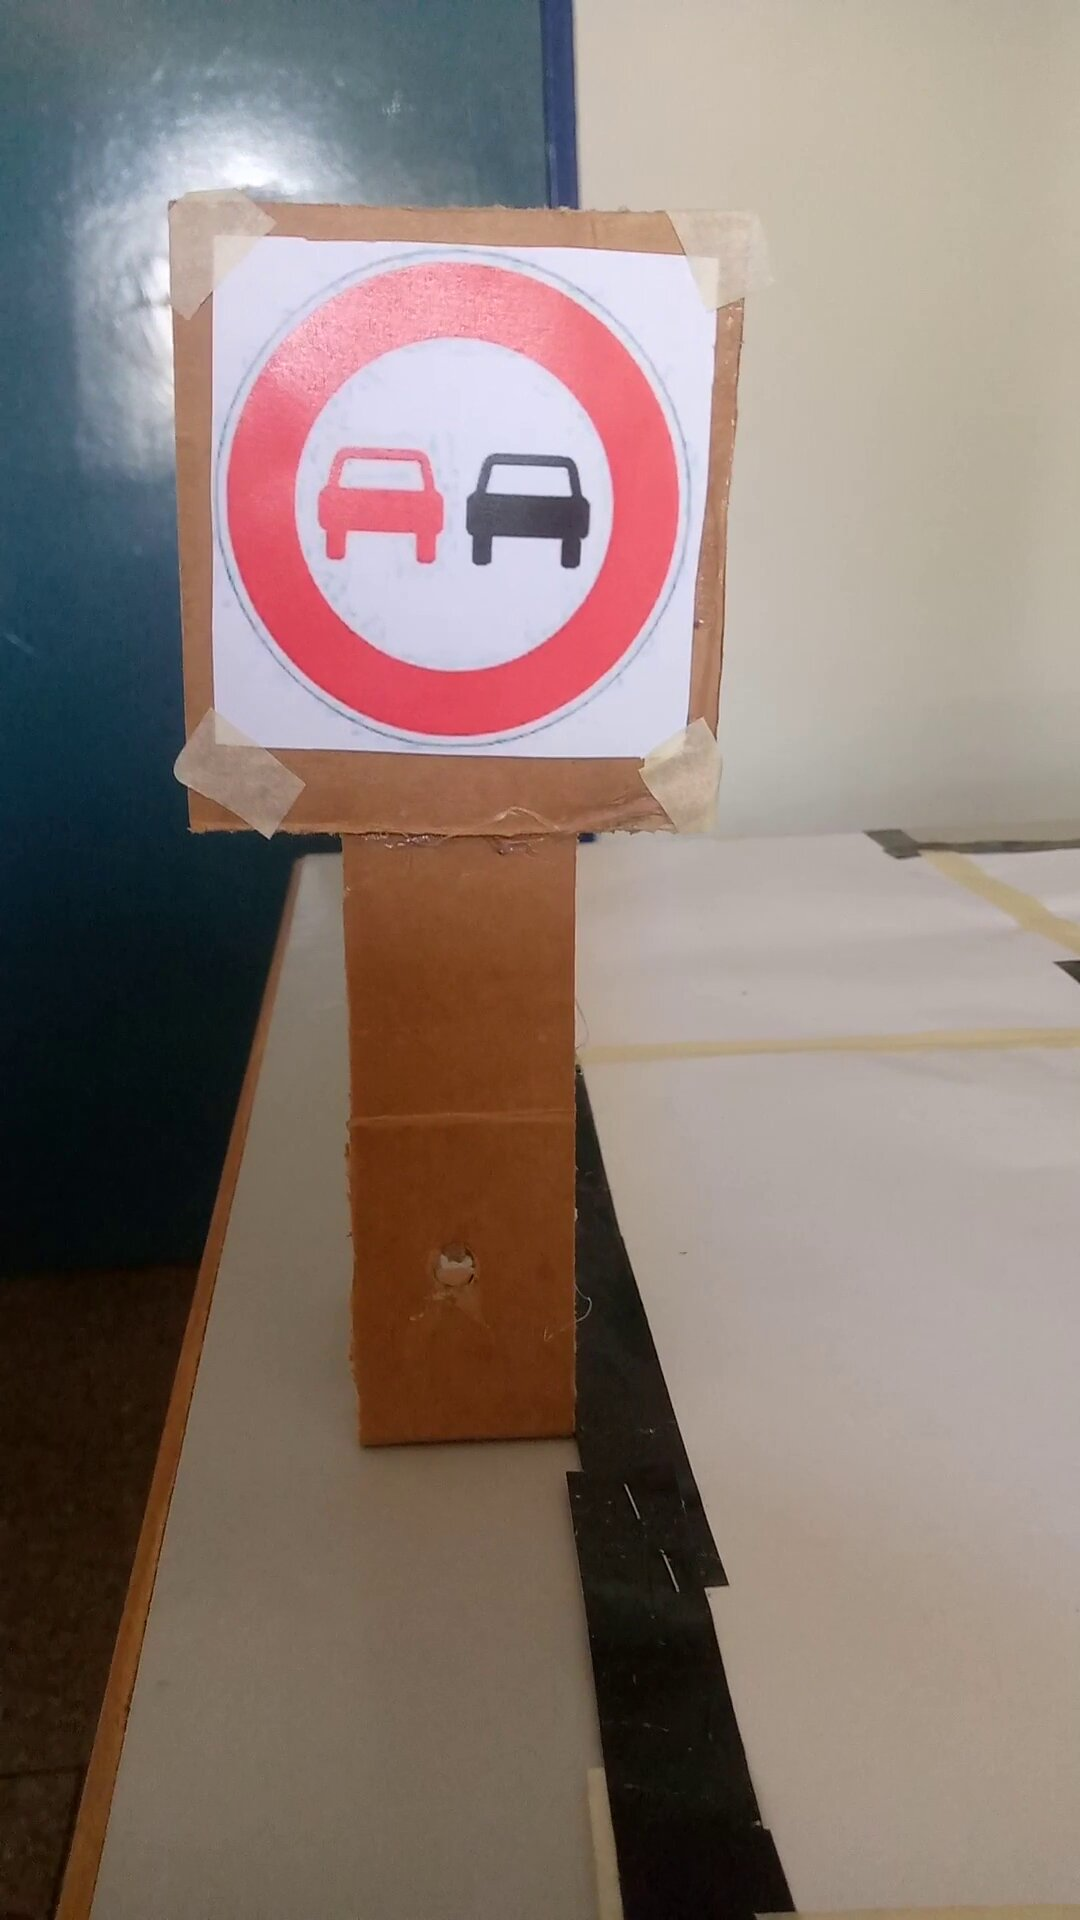panel100: (200, 225, 707, 786)
